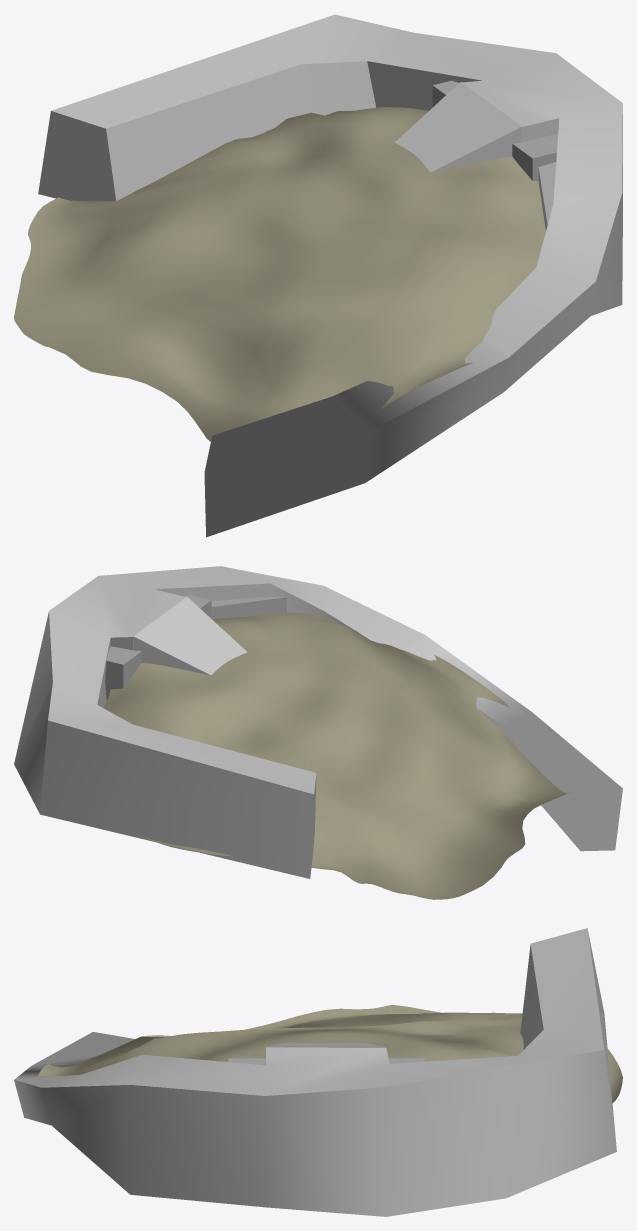
File: Stage.fbx
3 views of the same model, one above another, from view 1: azimuth 30°, elevation 25°; view 2: azimuth 150°, elevation 25°; view 3: azimuth 270°, elevation 25° (orthographic). The views are drawn at different scales.
Parts seen in each view (by area): view 1: pCube5; view 2: pCube5; view 3: pCube5.
Boxes of the visible parts, x1,y1,x2,y2 form: pCube5: (14,14,622,537); pCube5: (14,566,622,899); pCube5: (14,928,622,1216).
Size of the model in its own units: 92.28 by 42.74 by 93.5.
